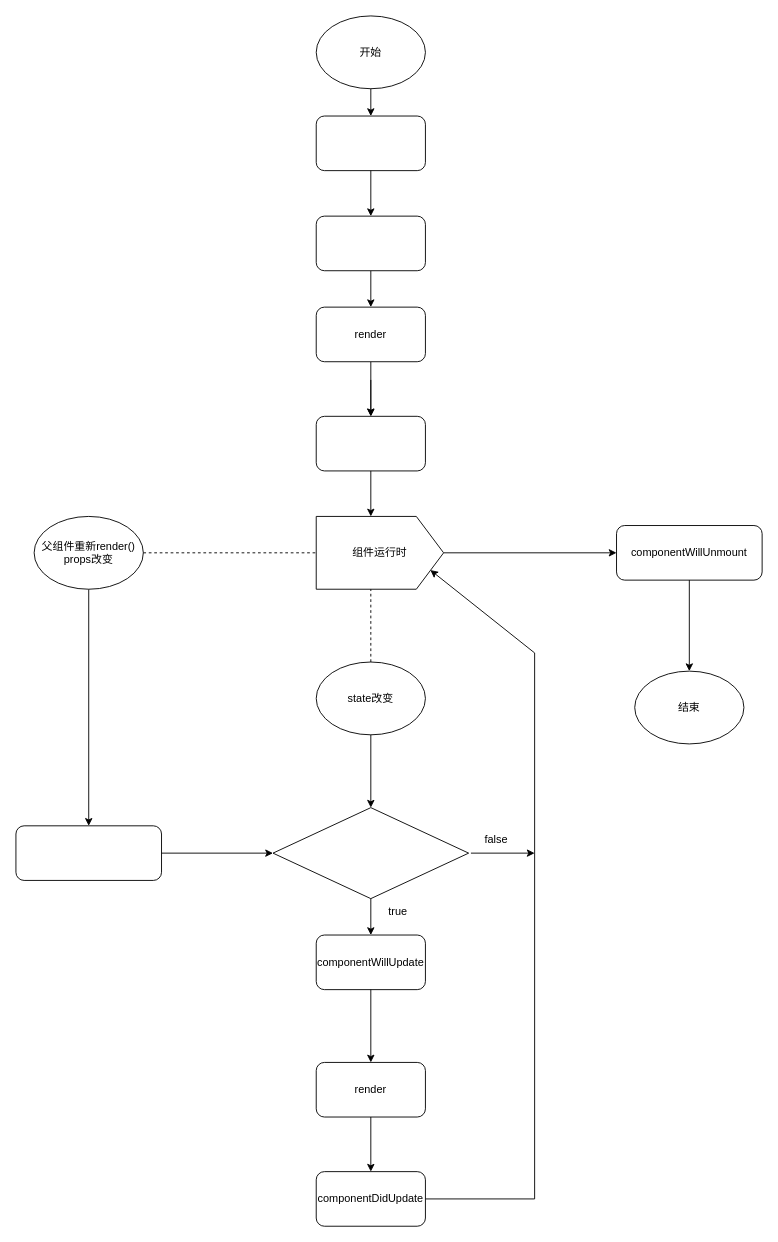
The diagram is 778 pixels wide and 1242 high, and some of its shapes have lost their labels. Here are the shapes that lost their labels. From the top down, the centre of each, then its label:
At (x=370, y=143): "constructor".
At (x=370, y=243): "componentWillMount".
At (x=370, y=443): "componentDidMount".
At (x=88, y=852): "componentWillReceiveProps".
At (x=370, y=853): "shouldComponentUpdate".
